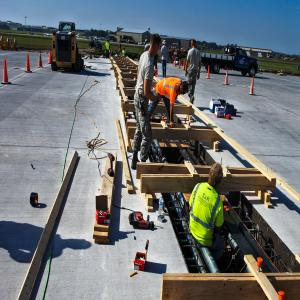none: (208, 161, 225, 189), (151, 34, 163, 57), (179, 81, 190, 97), (192, 40, 197, 49), (145, 39, 149, 46), (164, 41, 167, 47), (108, 40, 110, 44)
yellow: (124, 48, 126, 51)
